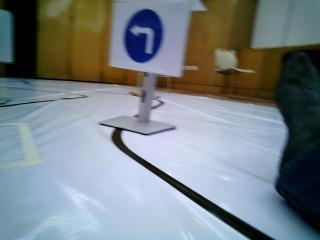left: (127, 5, 183, 71)
